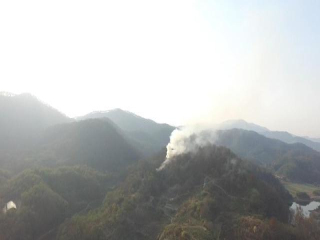smoke: (154, 124, 220, 172)
